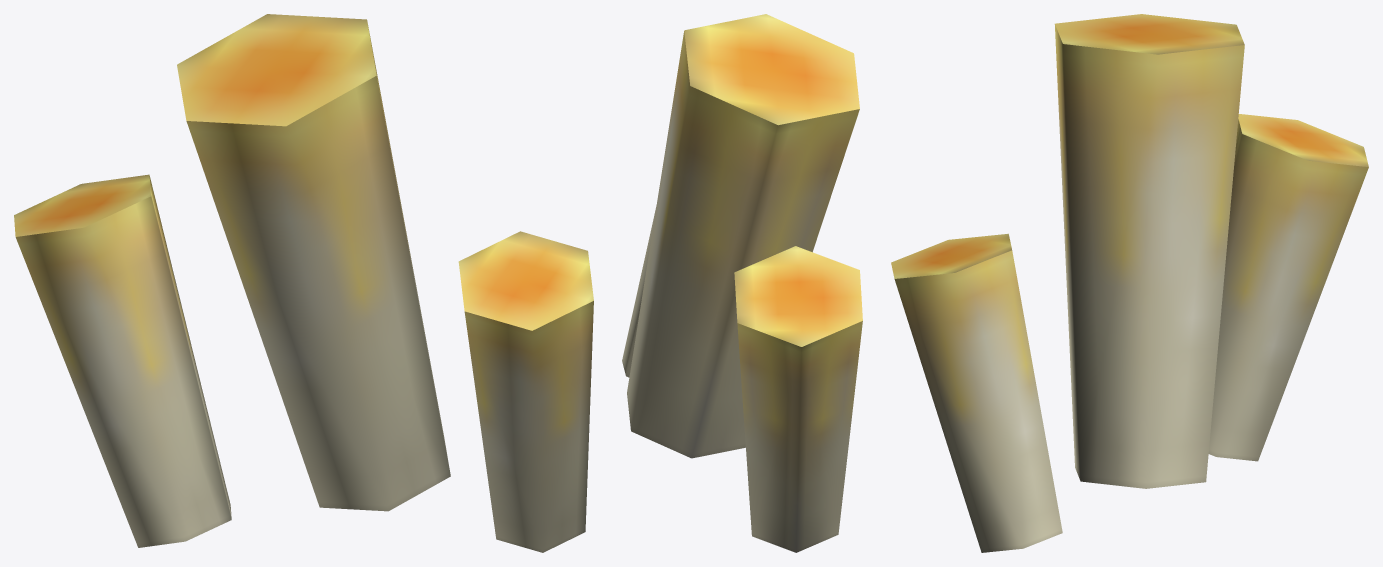
File: Area10_18.fbx
3 renders of one model, left to right at view 1: azimuth 30°, elevation 25°; view 2: azimuth 150°, elevation 25°; view 3: azimuth 270°, elevation 25°, orthographic. The views are drawn at different scales.
Parts seen in each view (by area): view 1: Area10_18; view 2: Area10_18; view 3: Area10_18.
Part boxes in pixels (<box>): Area10_18: <box>14,14,593,552</box>; Area10_18: <box>622,14,862,552</box>; Area10_18: <box>891,14,1368,552</box>.
Size of the model in its own units: 41.57 by 48.18 by 44.05.
